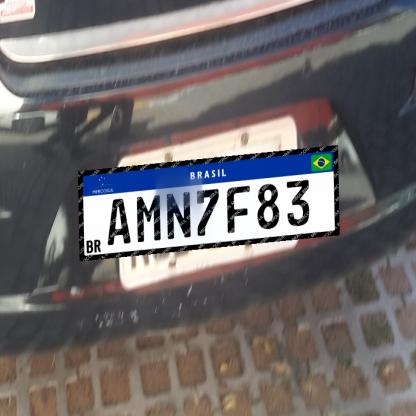PlacaM: (78, 146, 340, 261)
